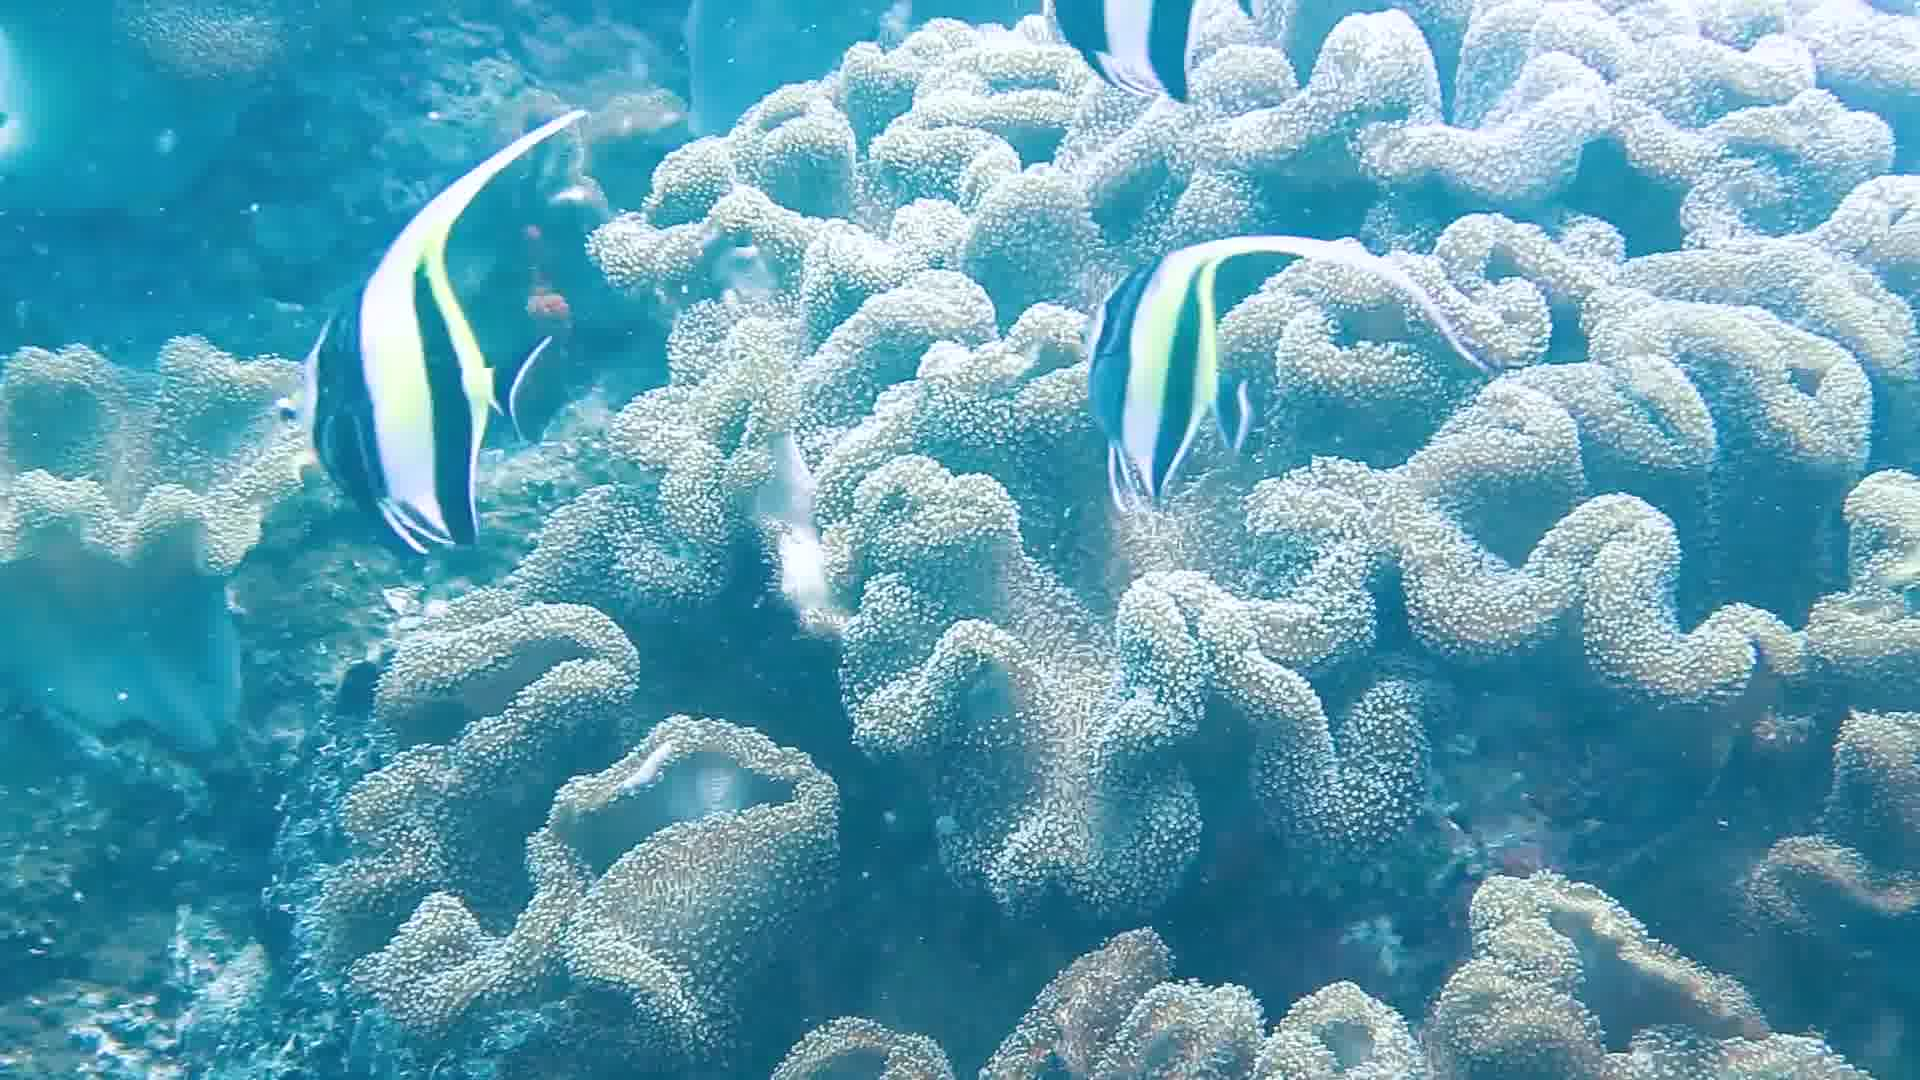Zanclus cornutus: (285, 229, 563, 560), (1065, 228, 1302, 512)
